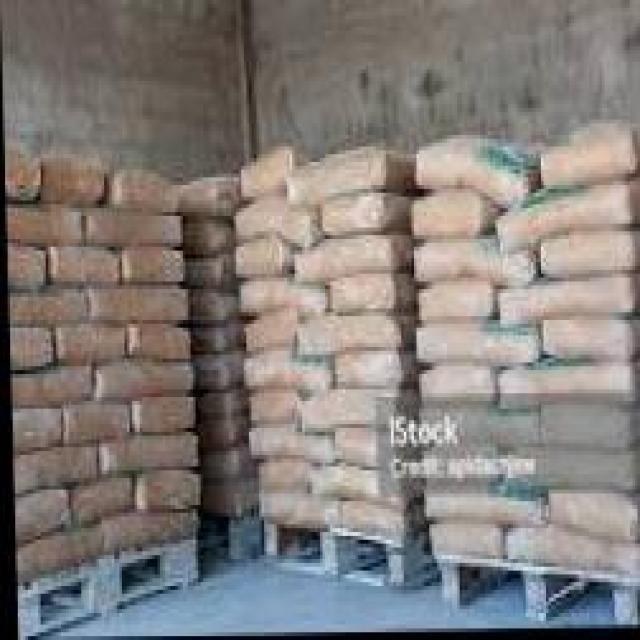gunny_bag: (500, 183, 640, 253), (416, 136, 540, 209), (508, 532, 640, 585), (498, 277, 640, 326), (498, 448, 640, 497), (496, 371, 640, 414), (414, 241, 531, 292), (13, 525, 101, 587), (417, 322, 537, 367), (295, 241, 407, 288), (419, 408, 536, 452), (541, 407, 640, 456), (305, 390, 415, 432), (309, 468, 414, 512), (545, 493, 640, 541), (290, 156, 383, 205), (11, 445, 95, 498), (541, 239, 640, 283), (299, 316, 401, 357), (9, 364, 91, 414), (236, 201, 320, 249), (541, 324, 640, 364), (95, 361, 189, 403), (320, 195, 411, 238), (86, 209, 179, 251), (426, 495, 536, 530), (99, 437, 195, 477), (242, 352, 332, 394), (419, 446, 495, 495), (105, 513, 195, 554), (339, 500, 417, 546), (88, 288, 186, 324), (255, 491, 340, 532), (414, 191, 480, 243), (5, 202, 80, 246), (332, 277, 410, 319), (7, 288, 84, 330), (248, 432, 332, 470), (241, 282, 323, 320), (131, 469, 199, 514), (336, 435, 412, 475), (418, 366, 489, 407), (428, 524, 499, 565), (417, 281, 489, 321), (103, 170, 173, 211), (12, 489, 66, 542), (332, 350, 404, 389), (71, 478, 129, 526), (241, 141, 288, 199), (43, 160, 104, 203), (53, 245, 117, 285), (56, 324, 123, 362), (63, 403, 128, 441), (243, 309, 292, 357), (179, 181, 233, 224), (134, 396, 193, 434), (10, 408, 59, 453), (123, 252, 183, 287), (200, 482, 255, 520), (129, 326, 187, 361), (3, 152, 42, 203), (192, 356, 244, 394), (246, 393, 300, 428), (7, 325, 50, 367), (193, 322, 241, 358), (200, 417, 246, 453), (258, 463, 308, 494), (6, 243, 43, 284), (190, 290, 233, 325), (202, 451, 247, 484), (236, 243, 279, 277), (186, 224, 230, 257), (188, 257, 233, 287), (196, 392, 240, 422)
